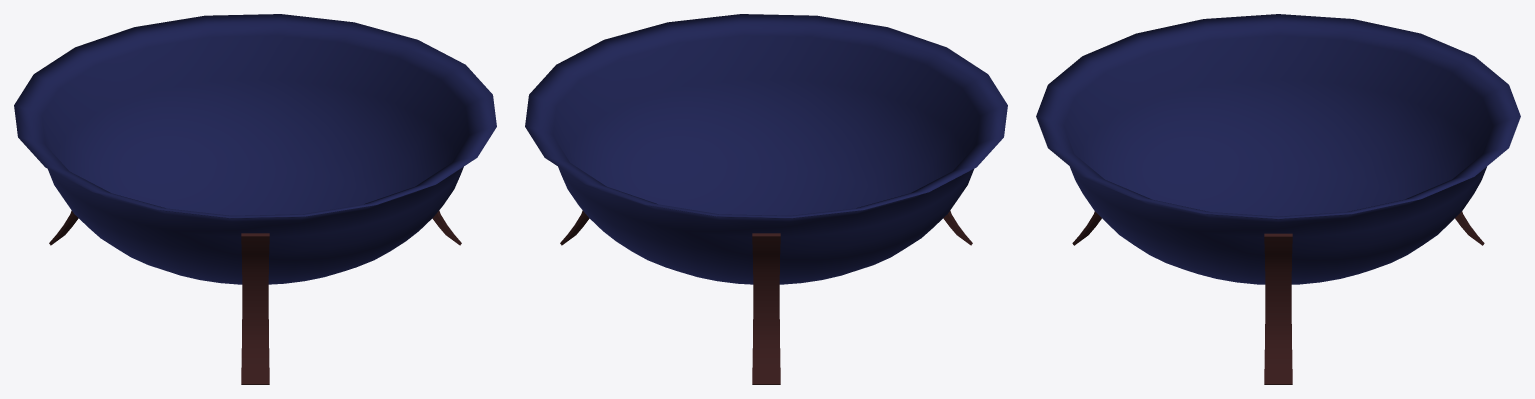
3 views of the same model, side by side, from view 1: azimuth 30°, elevation 25°; view 2: azimuth 150°, elevation 25°; view 3: azimuth 270°, elevation 25° (orthographic).
Parts seen in each view (by area): view 1: g pCube4 polySurface4, g polySurface1 pCube4; view 2: g pCube4 polySurface4, g pCube4 polySurface2; view 3: g pCube4 polySurface4, g pCube4 polySurface3.
Boxes of the visible parts, box(x1,y1,x2,y2) form: g pCube4 polySurface4: box(14, 14, 496, 284); g polySurface1 pCube4: box(241, 233, 269, 384); g pCube4 polySurface4: box(525, 14, 1007, 284); g pCube4 polySurface2: box(752, 233, 780, 384); g pCube4 polySurface4: box(1036, 14, 1520, 284); g pCube4 polySurface3: box(1264, 233, 1292, 384).
Size of the model in its own units: 2 by 0.7842 by 2.
